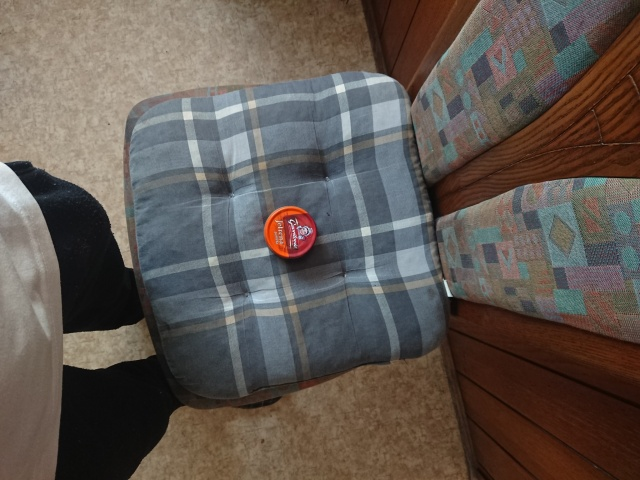Gavrilovic Pork Liver Pate 100g: (261, 203, 319, 262)
